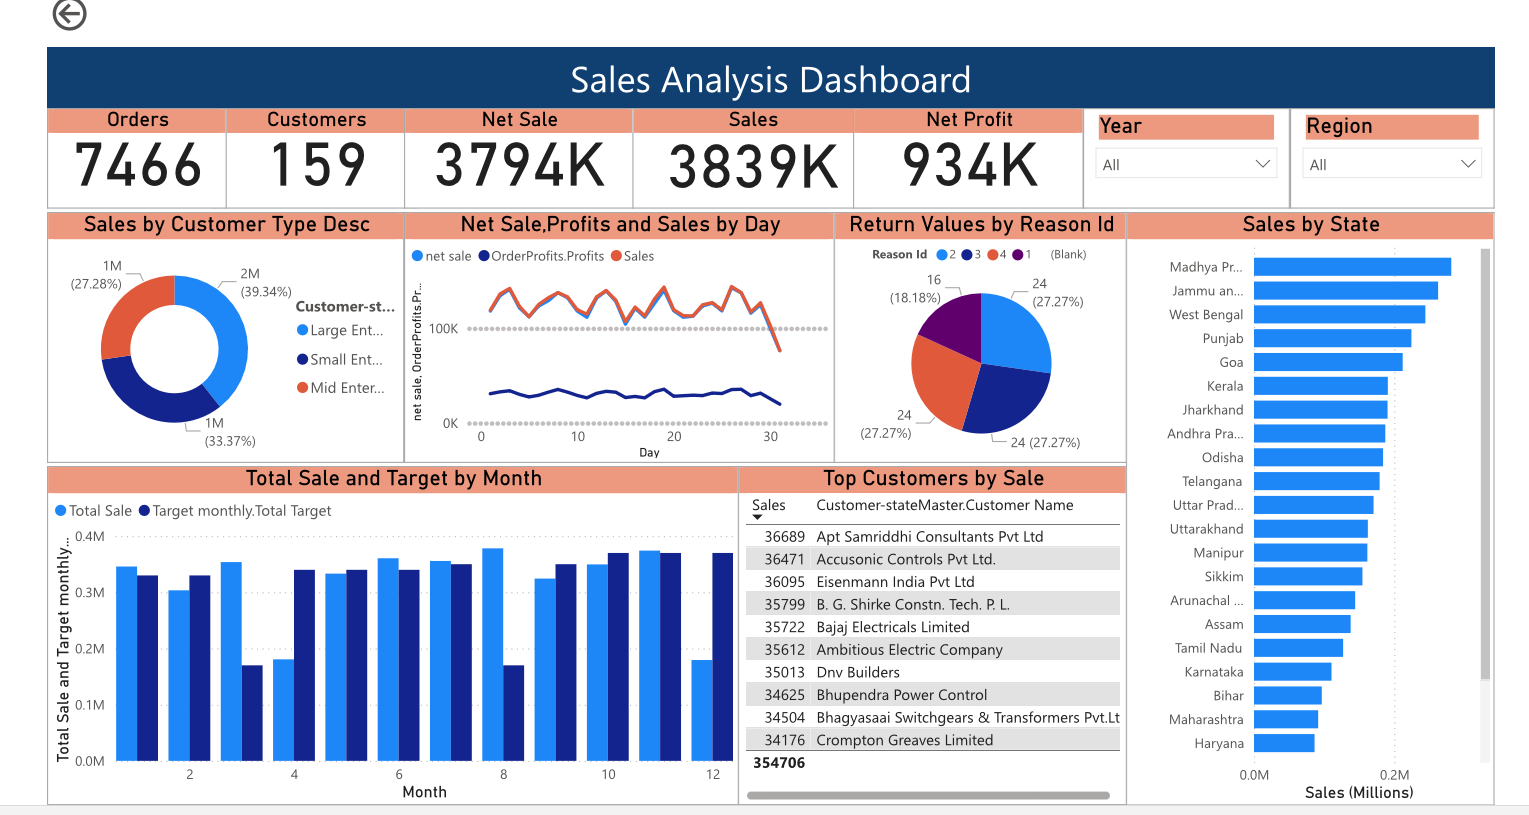

What the dashboard file says about the page in this screenshot:
{"tool":"powerbi","page":{"name":"Page 1","canvas":[1280,720],"ordinal":0},"visuals":[{"type":"card","title":"Customers","fields":{"Values":["CountNonNull(Customer-stateMaster.Customer ID)"]},"box":[147.1,103.3,181.1,89.1],"z":0},{"type":"card","title":"Orders","fields":{"Values":["CountNonNull(ALL REGIONS SALES.Order ID)"]},"box":[0,103.3,158.4,89.1],"z":1000},{"type":"actionButton","box":[0,0,100,40],"z":2000},{"type":"card","fields":{"Values":["Sum(ALL REGIONS SALES.Return Values)"]},"box":[10,570,280,150],"z":3000},{"type":"card","title":"Sales","fields":{"Values":["Sum(ALL REGIONS SALES.Sales)"]},"box":[517.7,103.3,212.2,89.1],"z":4000},{"type":"card","title":"Net Profit","fields":{"Values":["Sum(ALL REGIONS SALES.net profit)"]},"box":[712.9,103.3,203.7,89.1],"z":5000},{"type":"card","title":"Net Sale","fields":{"Values":["Sum(ALL REGIONS SALES.net sale)"]},"box":[315.4,103.3,202.3,89.1],"z":6000},{"type":"donutChart","title":"Sales by Customer Type Desc","fields":{"Category":["ALL REGIONS SALES.Customer-stateMaster.Customer Type Desc"],"Y":["Sum(ALL REGIONS SALES.Sales)"]},"box":[0,195.2,315.4,222.1],"z":7000},{"type":"clusteredBarChart","title":"Sales by State","fields":{"Category":["ALL REGIONS SALES.Customer-stateMaster.StateMaster.State Name"],"Y":["Sum(ALL REGIONS SALES.Sales)"]},"box":[954.8,195.2,325.3,524.8],"z":8000},{"type":"pieChart","title":"Return Values by Reason Id","fields":{"Category":["ALL REGIONS SALES.Return Reason Id"],"Y":["Sum(ALL REGIONS SALES.Return Values)"]},"box":[696,195.2,258.9,222.1],"z":9000},{"type":"tableEx","title":"Top Customers by Sale","fields":{"Values":["Sum(ALL REGIONS SALES.Sales)","ALL REGIONS SALES.Customer-stateMaster.Customer Name"]},"box":[611.1,420.1,343.7,299.9],"z":10000},{"type":"clusteredColumnChart","title":"Total Sale and Target by Month","fields":{"Category":["Target vs SALES (2).Month"],"Y":["Sum(Target vs SALES (2).Total Sale)","Sum(Target vs SALES (2).Target monthly.Total Target)"]},"box":[0,420.1,611.1,299.9],"z":11000},{"type":"lineChart","title":"Net Sale,Profits and Sales by Day","fields":{"Category":["ALL REGIONS SALES.OrderDate.Variation.Date Hierarchy.Day"],"Y":["Sum(ALL REGIONS SALES.net sale)","Sum(ALL REGIONS SALES.OrderProfits.Profits)","Sum(ALL REGIONS SALES.Sales)"]},"box":[315.4,195.2,380.5,222.1],"z":12000},{"type":"slicer","fields":{"Values":["Target total.Year"]},"box":[916.6,103.3,182.5,89.1],"z":13000},{"type":"slicer","fields":{"Values":["ALL REGIONS SALES.Region"]},"box":[1099.1,103.3,181.1,89.1],"z":14000},{"type":"textbox","box":[0,49.5,1280.2,53.8],"z":15000}]}

Visuals, with their boxes on the page's 1280x720 design canvas (x1, y1, x2, y2). These are canvas units, not pixel positions in the 1529x815 screenshot, which may show the page scaled, cropped or inside an application window:
"Customers" card: crop(147, 103, 328, 192)
"Orders" card: crop(0, 103, 158, 192)
actionButton: crop(0, 0, 100, 40)
card - Sum(ALL REGIONS SALES.Return Values): crop(10, 570, 290, 720)
"Sales" card: crop(518, 103, 730, 192)
"Net Profit" card: crop(713, 103, 917, 192)
"Net Sale" card: crop(315, 103, 518, 192)
"Sales by Customer Type Desc" donutChart: crop(0, 195, 315, 417)
"Sales by State" clusteredBarChart: crop(955, 195, 1280, 720)
"Return Values by Reason Id" pieChart: crop(696, 195, 955, 417)
"Top Customers by Sale" tableEx: crop(611, 420, 955, 720)
"Total Sale and Target by Month" clusteredColumnChart: crop(0, 420, 611, 720)
"Net Sale,Profits and Sales by Day" lineChart: crop(315, 195, 696, 417)
slicer - Target total.Year: crop(917, 103, 1099, 192)
slicer - ALL REGIONS SALES.Region: crop(1099, 103, 1280, 192)
textbox: crop(0, 50, 1280, 103)
